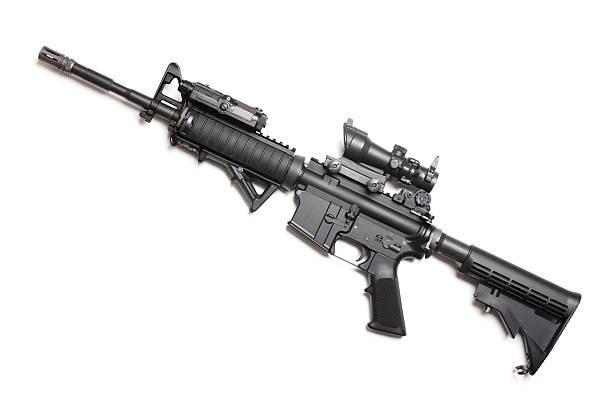larga: (37, 45, 582, 376)
